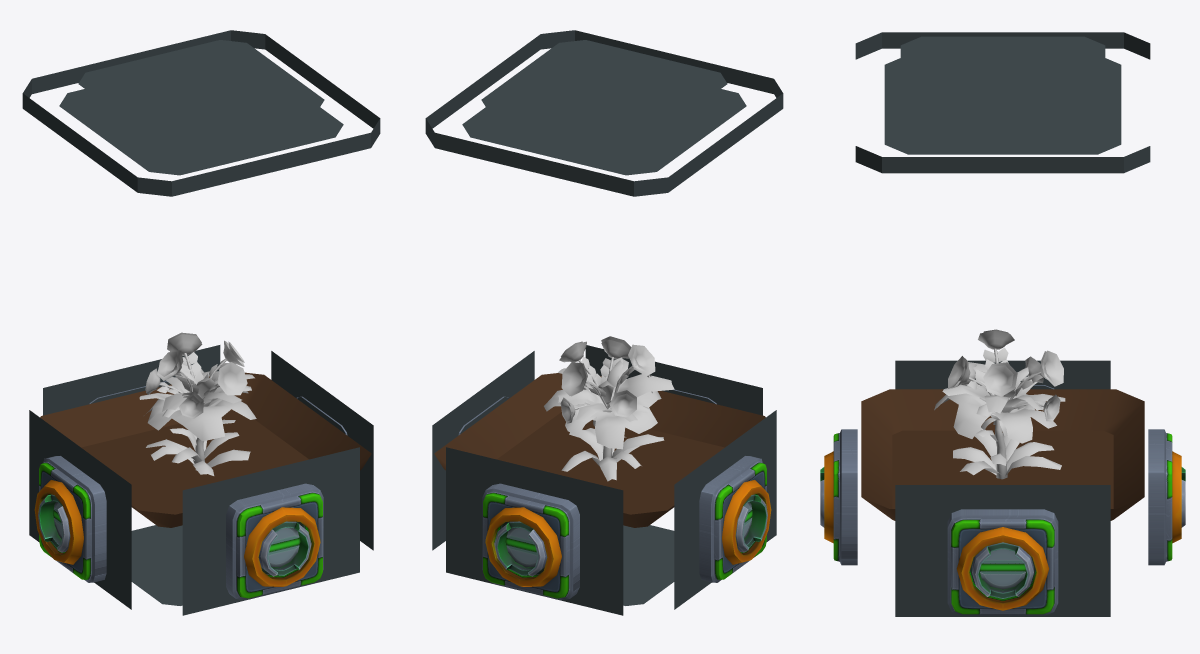
File: fant_pigmentflower_grower_1.obj
3 renders of one model, left to right at view 1: azimuth 30°, elevation 25°; view 2: azimuth 150°, elevation 25°; view 3: azimuth 270°, elevation 25°, orthographic. The views are drawn at different scales.
Visible parts, largest first — view 1: fant_pigmentflower_grower_1_Cube.001; view 2: fant_pigmentflower_grower_1_Cube.001; view 3: fant_pigmentflower_grower_1_Cube.001.
Part boxes in pixels (x1,y1,x2,y2): fant_pigmentflower_grower_1_Cube.001: (22,30,380,615); fant_pigmentflower_grower_1_Cube.001: (425,30,783,615); fant_pigmentflower_grower_1_Cube.001: (820,32,1185,616).
Bounding box in the file's own units: 5.87 × 9 × 5.87.
